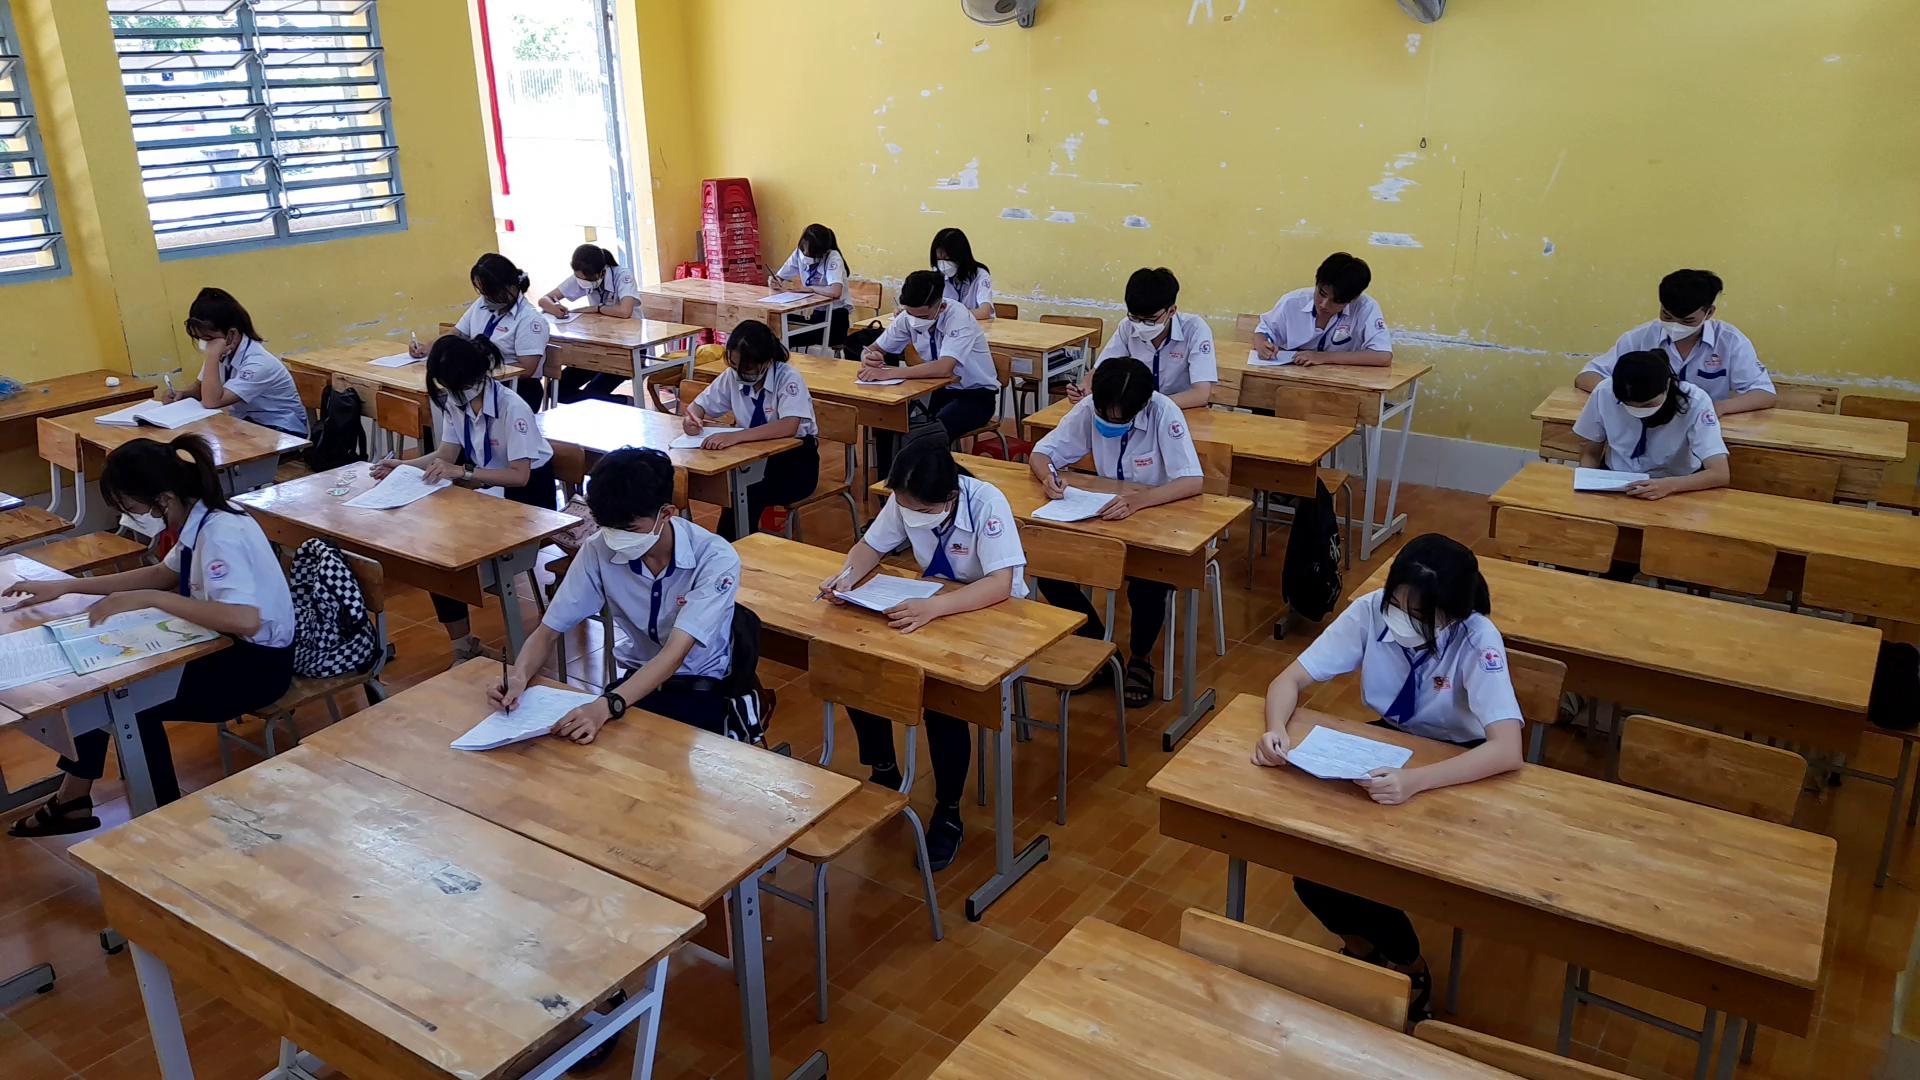Bend Over The Desk: (1605, 349, 1675, 421)
Hand Under Table: (1564, 385, 1606, 473), (510, 309, 546, 384)
Normal: (480, 444, 741, 752), (1250, 529, 1516, 777), (15, 434, 295, 641), (820, 433, 1025, 632), (1026, 351, 1208, 524), (369, 332, 542, 484), (674, 316, 811, 454), (1244, 245, 1393, 371), (851, 264, 992, 392), (525, 237, 641, 324), (760, 222, 853, 295)
Wave: (193, 327, 260, 411)
